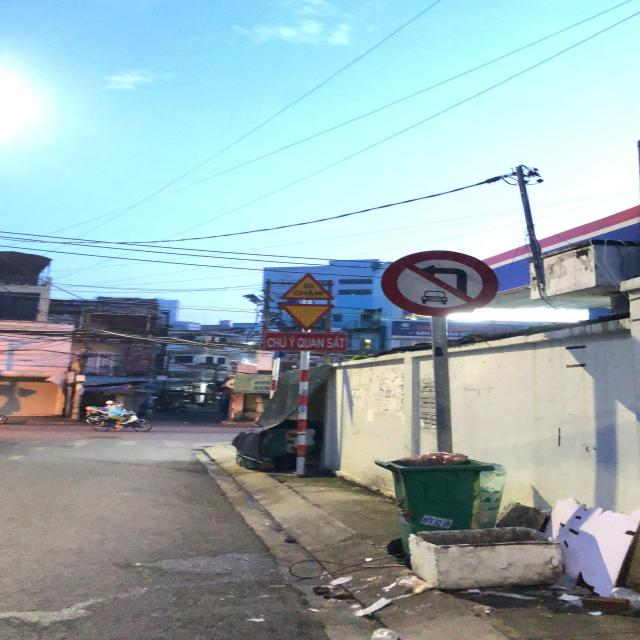Bien bao cam xe o to re trai: (376, 243, 508, 318)
Bien bao di cham: (278, 269, 338, 302)
Bien bao giao nhau voi duong uu tien: (269, 299, 348, 329)
